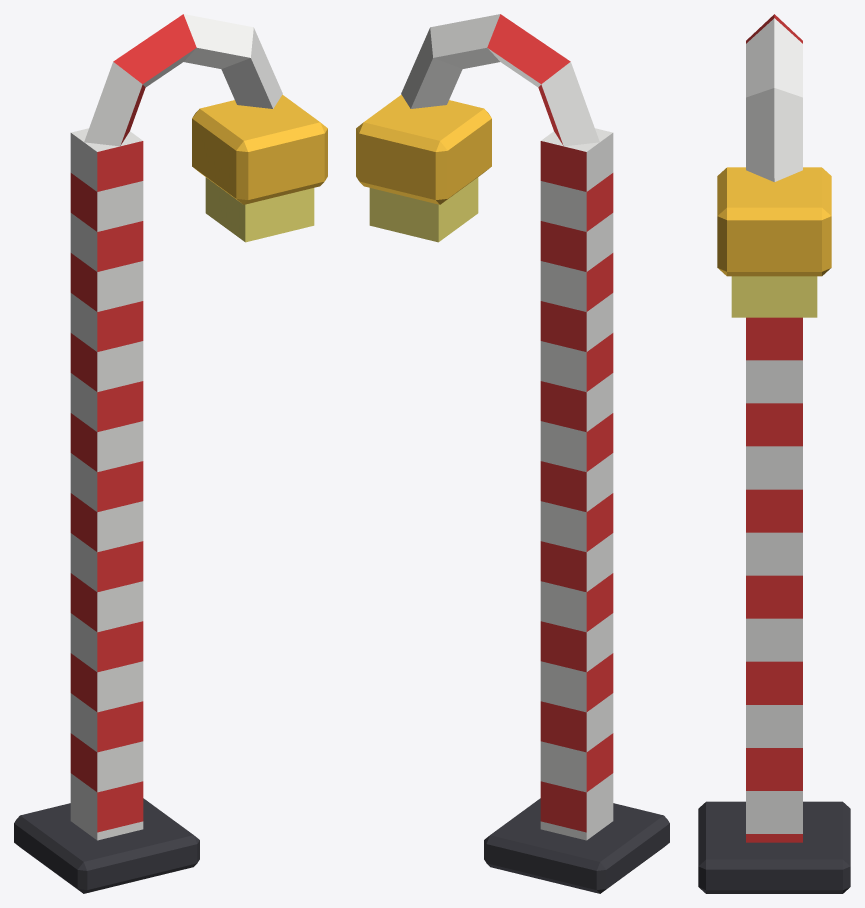
File: CandyCaneLamp.fbx
3 views of the same model, side by side, from view 1: azimuth 30°, elevation 25°; view 2: azimuth 150°, elevation 25°; view 3: azimuth 270°, elevation 25° (orthographic). The views are drawn at different scales.
Visible parts, largest first — view 1: CandyCaneLamp; view 2: CandyCaneLamp; view 3: CandyCaneLamp.
Part boxes in pixels (<box>): CandyCaneLamp: <box>14,14,327,893</box>; CandyCaneLamp: <box>356,14,669,893</box>; CandyCaneLamp: <box>698,14,850,893</box>.
Bounding box in the file's own units: 3.4 × 10.3 × 1.6.
Materials: 1 (1 with a texture image).
